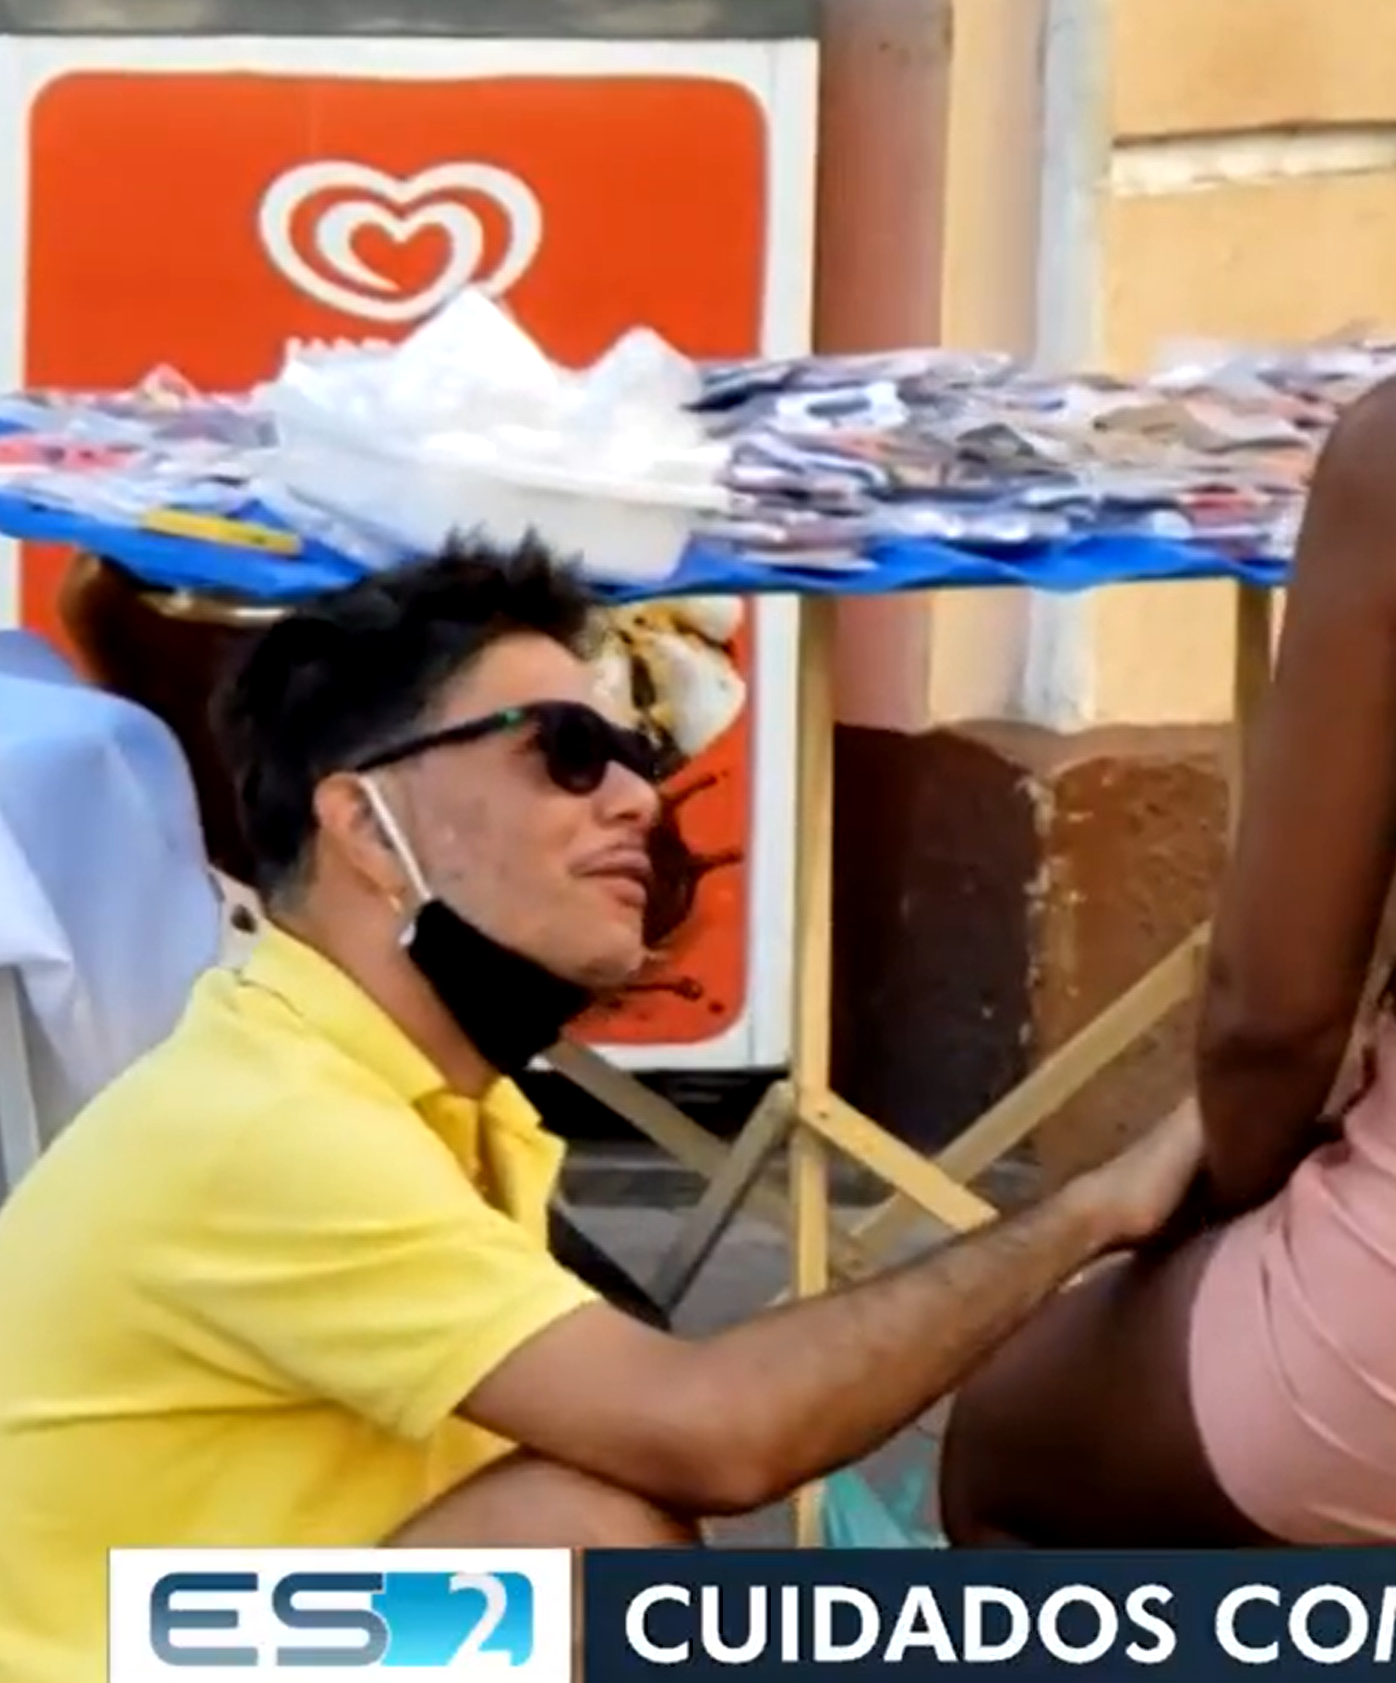mask_weared_incorrect: (212, 536, 694, 1119)
